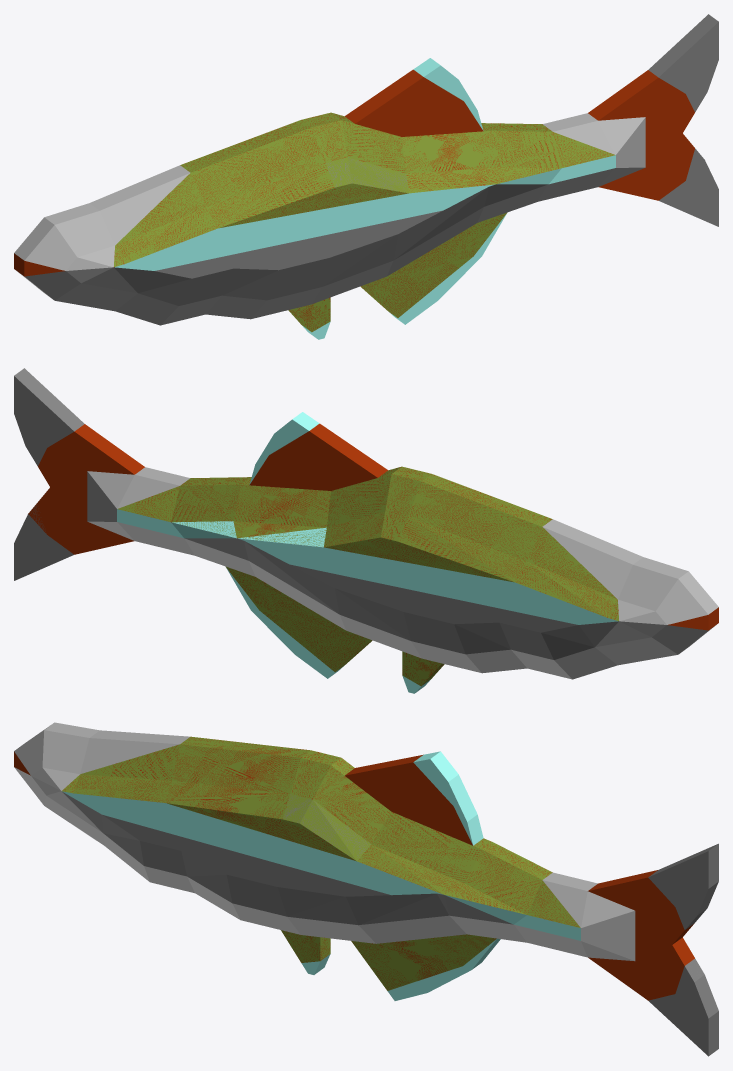
The model's file is whitecloudmountainminnow.obj.
The picture shows the model from 3 angles, top to bottom: view 1: azimuth 30°, elevation 25°; view 2: azimuth 150°, elevation 25°; view 3: azimuth 330°, elevation 25°; orthographic projection.
Parts seen in each view (by area): view 1: object 2, SketchUp; view 2: object 2, SketchUp; view 3: object 2, SketchUp.
Boxes of the visible parts, x1,y1,x2,y2 form: object 2: [14, 14, 718, 339]; SketchUp: [14, 15, 718, 330]; object 2: [14, 368, 718, 693]; SketchUp: [14, 369, 718, 683]; object 2: [14, 722, 718, 1056]; SketchUp: [14, 737, 718, 1055].
Bounding box in the file's own units: 11.5 × 3.97 × 1.5.
